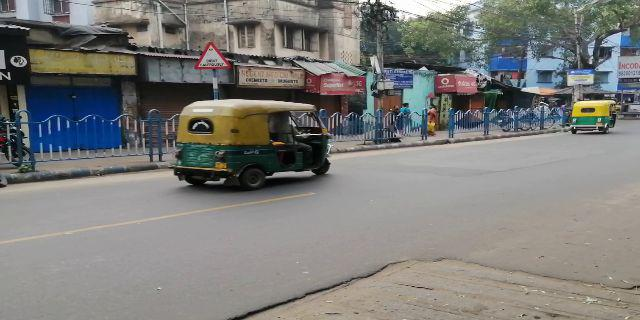Autorickshaw: (173, 98, 339, 193), (568, 100, 620, 130)
